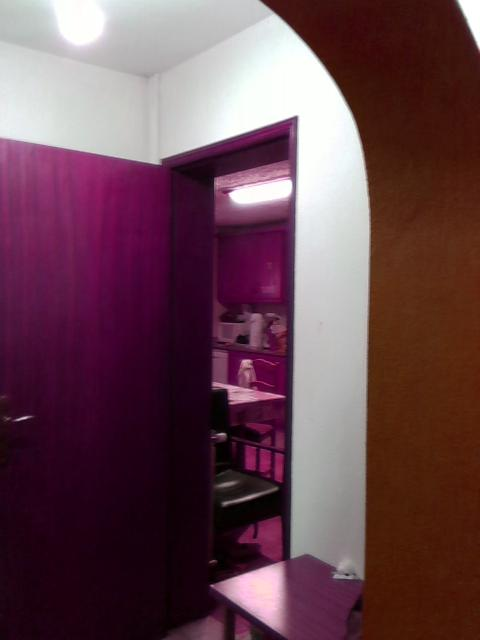open_door: (158, 114, 297, 617)
